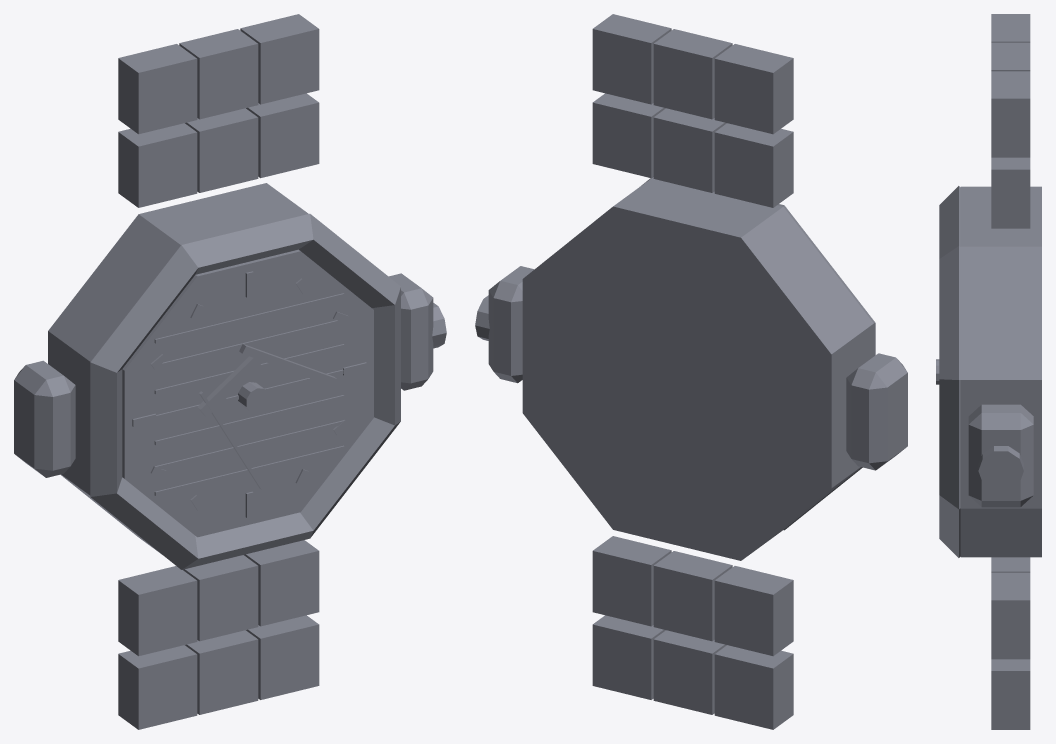
File: rlj_nautil.fbx
3 views of the same model, side by side, from view 1: azimuth 30°, elevation 25°; view 2: azimuth 150°, elevation 25°; view 3: azimuth 270°, elevation 25° (orthographic). The views are drawn at different scales.
Parts seen in each view (by area): view 1: Caja__metal_acero, Esfera__esmalte_azul, Esfera__metal_plata, Manecillas__metal_plata; view 2: Caja__metal_acero; view 3: Caja__metal_acero.
Boxes of the visible parts, x1,y1,x2,y2 form: Caja__metal_acero: (14,14,446,729); Esfera__esmalte_azul: (122,249,373,537); Esfera__metal_plata: (132,271,366,517); Manecillas__metal_plata: (197,344,336,417); Caja__metal_acero: (475,14,907,729); Caja__metal_acero: (939,14,1041,729).
Bounding box in the file's own units: 140 × 214 × 32.5.
